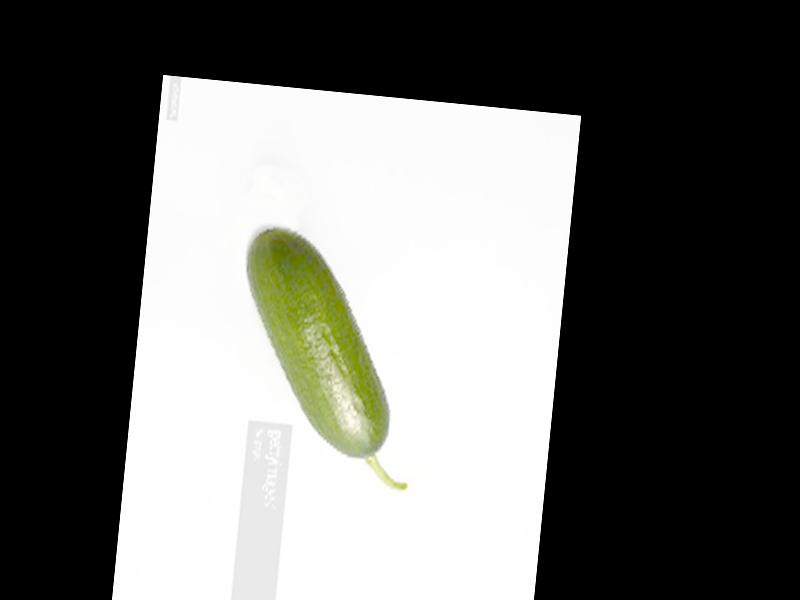Cucumber: (223, 227, 428, 495)
